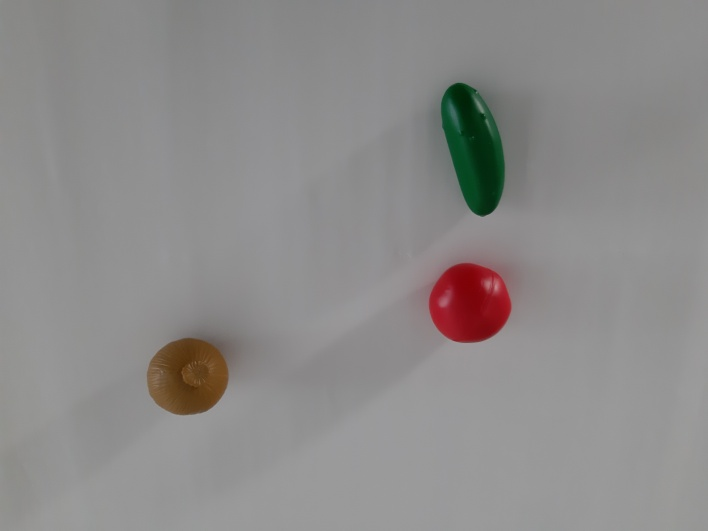cucumber: (427, 69, 523, 233)
onion: (138, 325, 240, 422)
tomato: (416, 252, 537, 356)
